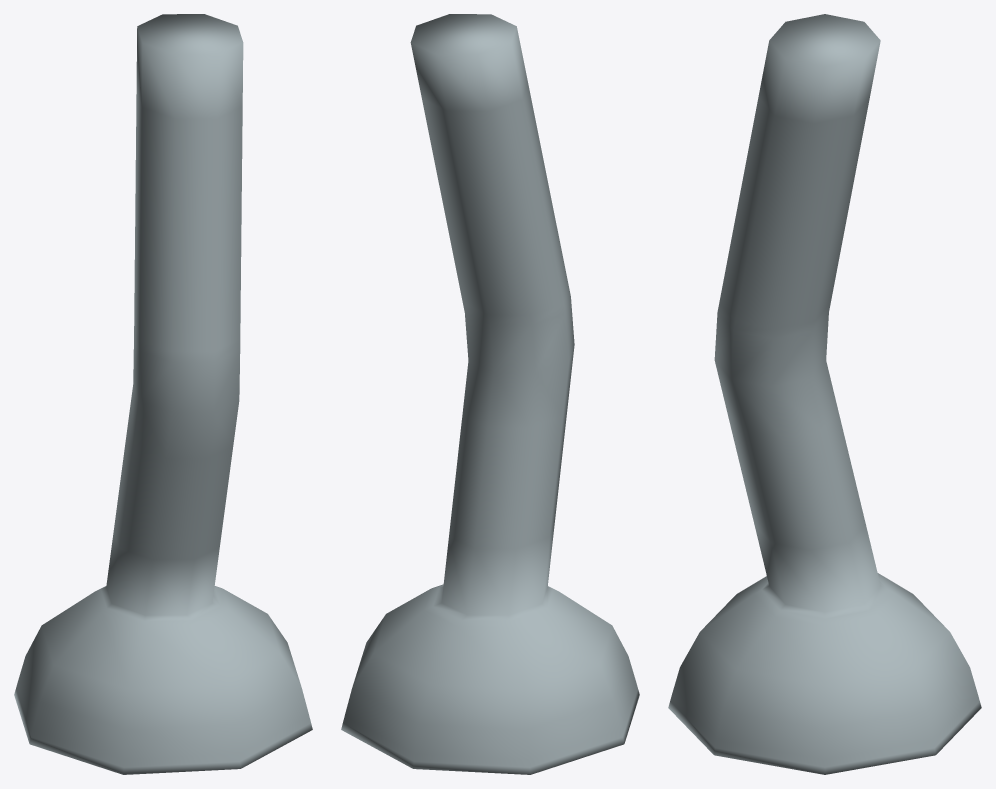
File: piernaDerecha.obj
3 views of the same model, side by side, from view 1: azimuth 30°, elevation 25°; view 2: azimuth 150°, elevation 25°; view 3: azimuth 270°, elevation 25° (orthographic).
Visible parts, largest first — view 1: Cylinder_004; view 2: Cylinder_004; view 3: Cylinder_004.
Boxes of the visible parts, bbox=[...] form: Cylinder_004: bbox=[14, 14, 312, 774]; Cylinder_004: bbox=[341, 14, 639, 774]; Cylinder_004: bbox=[668, 14, 981, 774].
Size of the model in its own units: 1.4 by 3.39 by 1.4.
